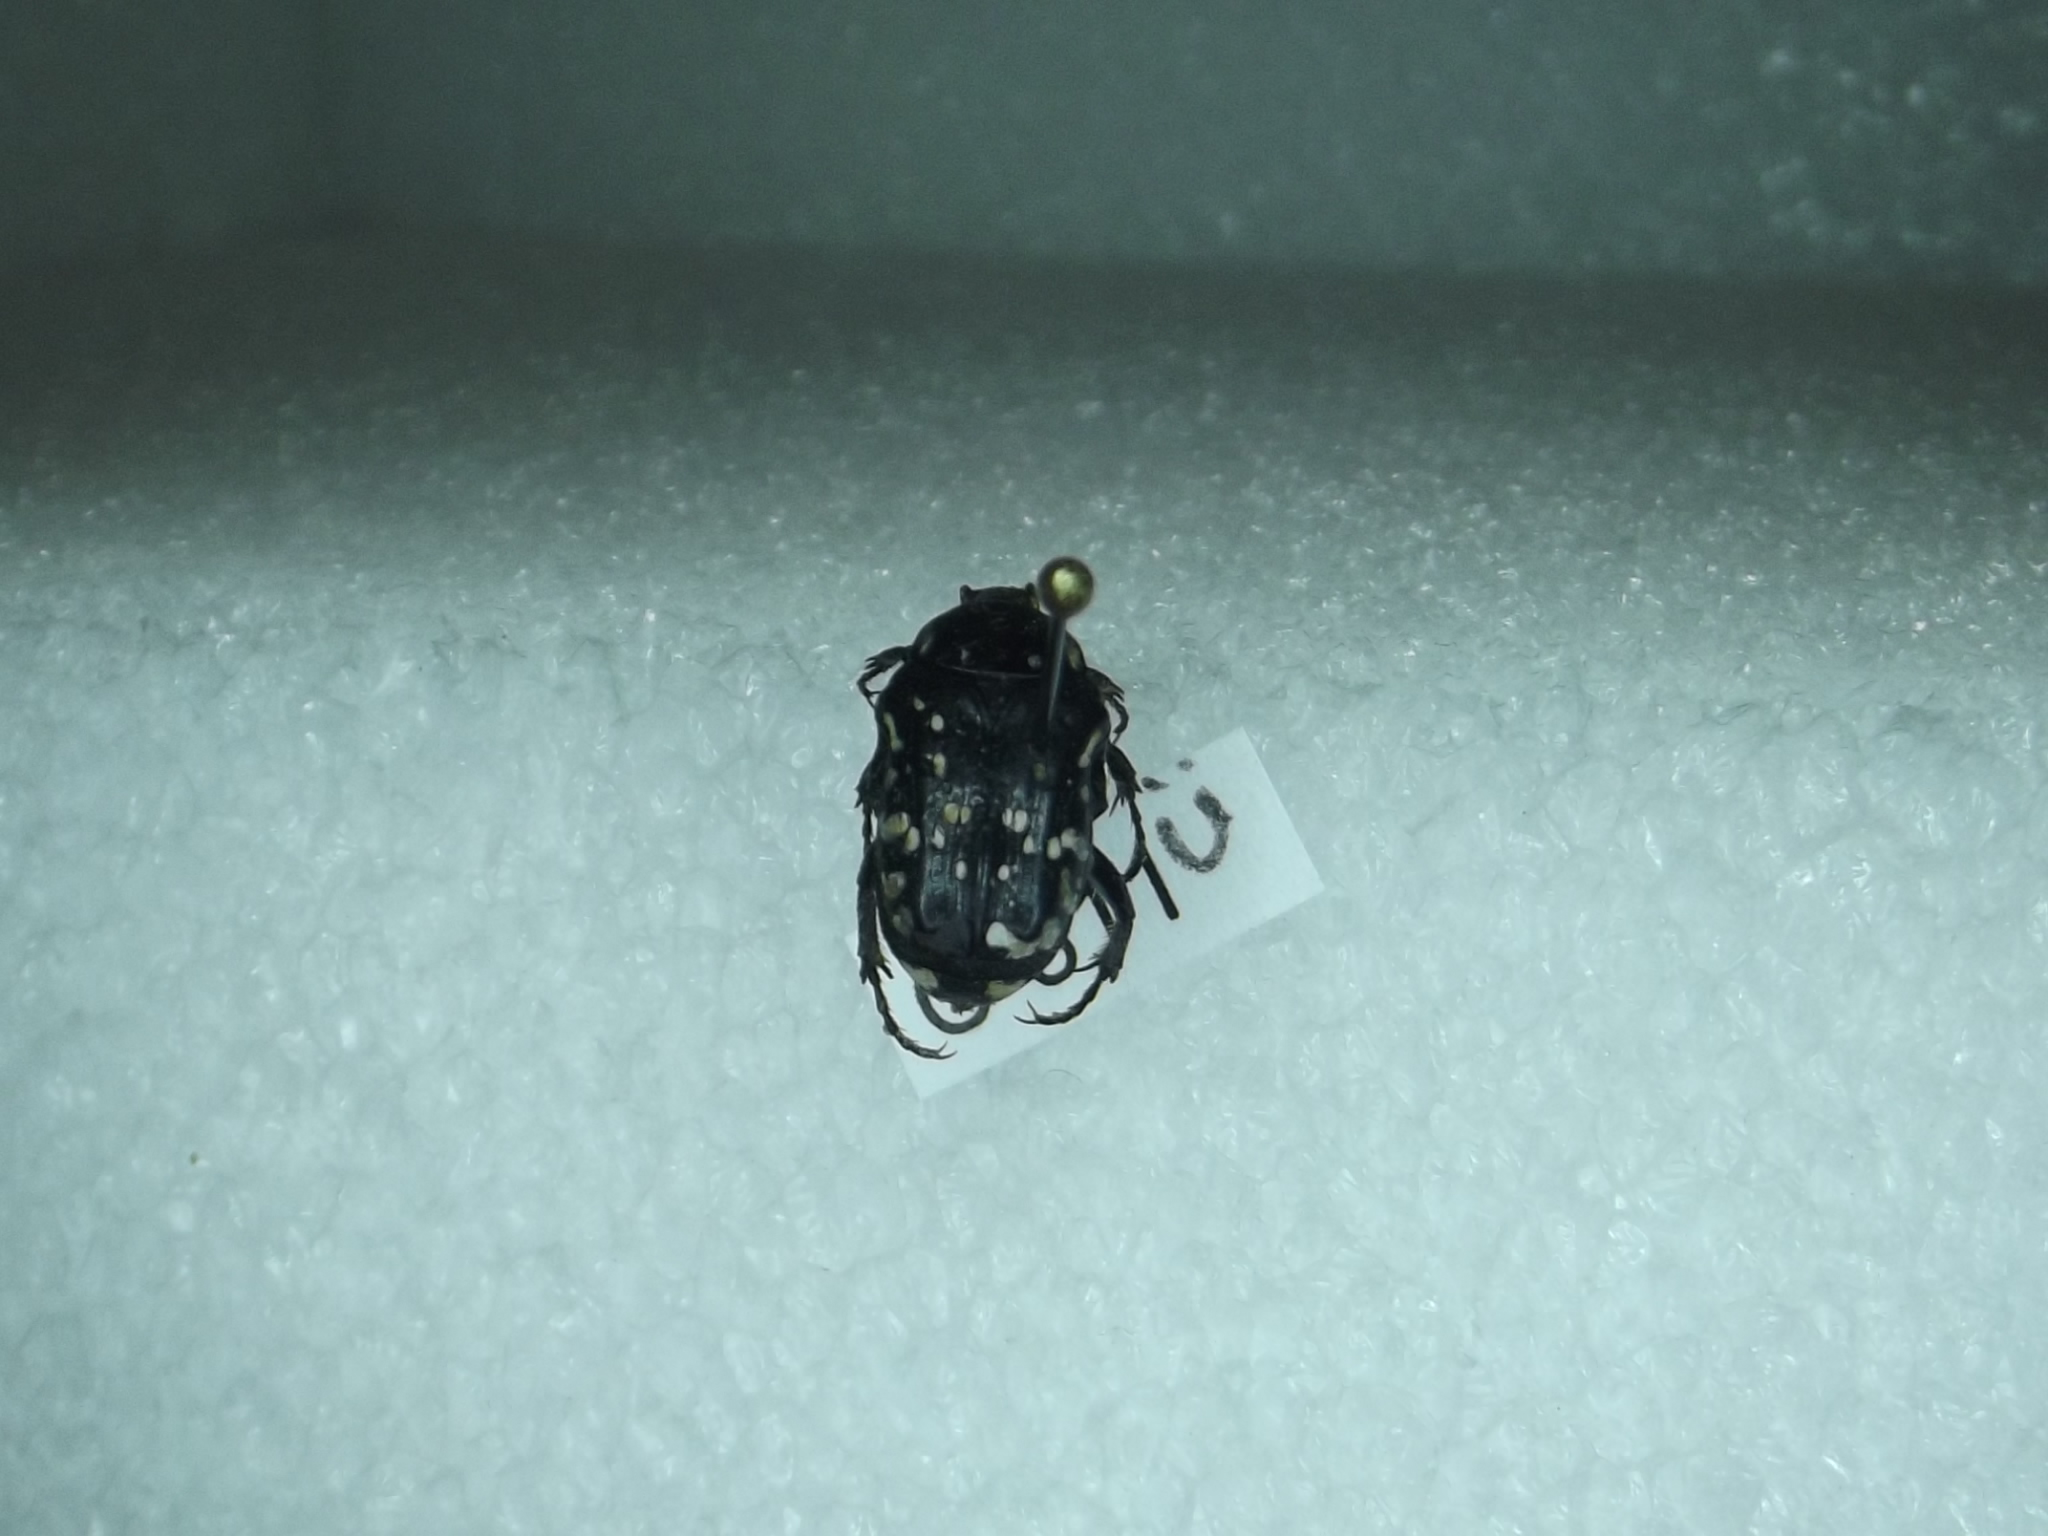Oxythyrea_albopicta: (847, 545, 1148, 1068)
